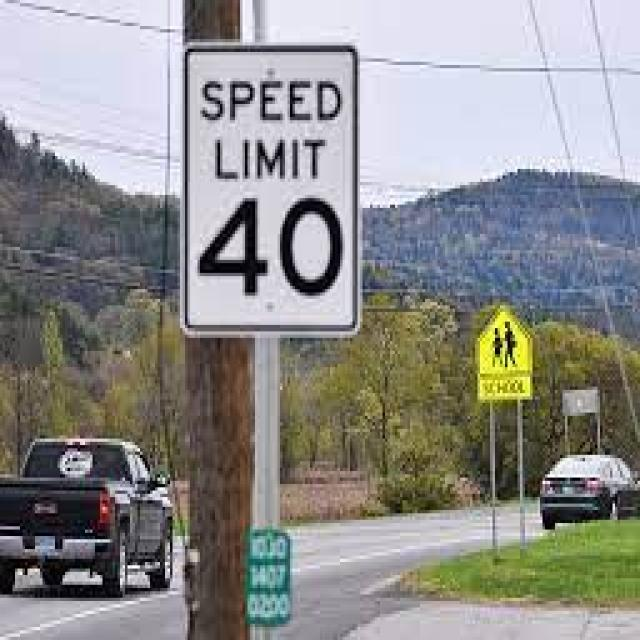speedLimit40: (195, 68, 345, 302)
